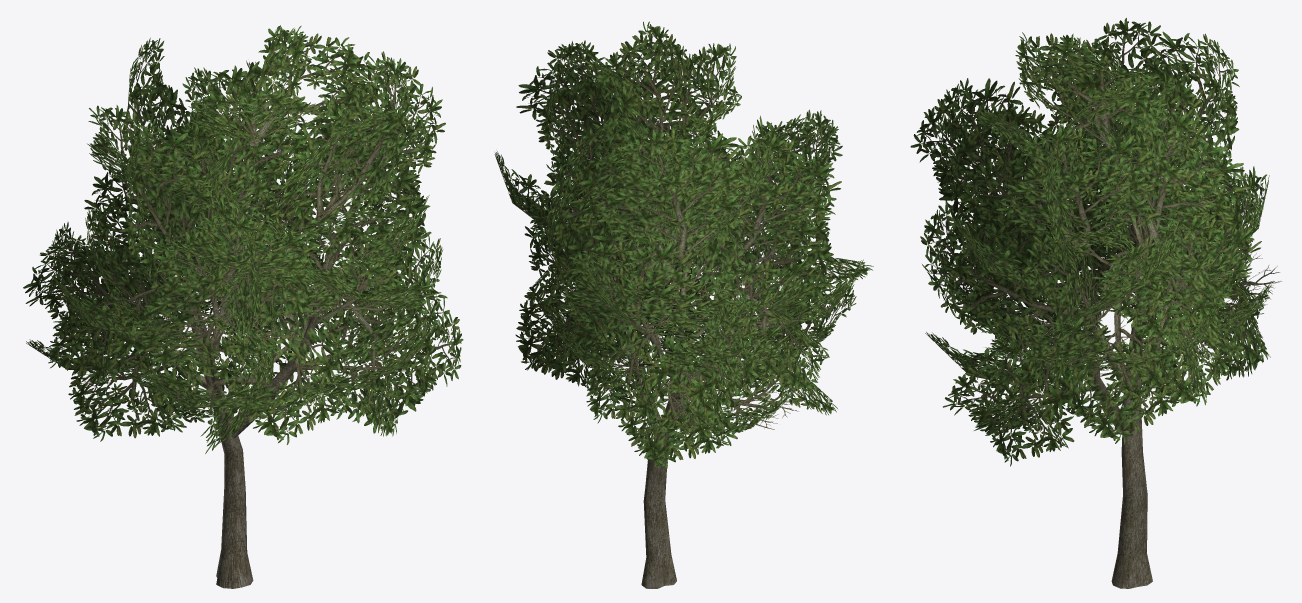
Rendered from tree_mango_03.fbx.
The picture shows the model from 3 angles, left to right: view 1: azimuth 30°, elevation 25°; view 2: azimuth 150°, elevation 25°; view 3: azimuth 270°, elevation 25°; orthographic projection. The views are drawn at different scales.
Visible parts, largest first — view 1: tree_mango_03; view 2: tree_mango_03; view 3: tree_mango_03.
Boxes of the visible parts, box(x1,y1,x2,y2) form: tree_mango_03: box(23, 25, 463, 588); tree_mango_03: box(494, 21, 873, 588); tree_mango_03: box(910, 18, 1281, 588).
Bounding box in the file's own units: 188 × 163 × 272.
